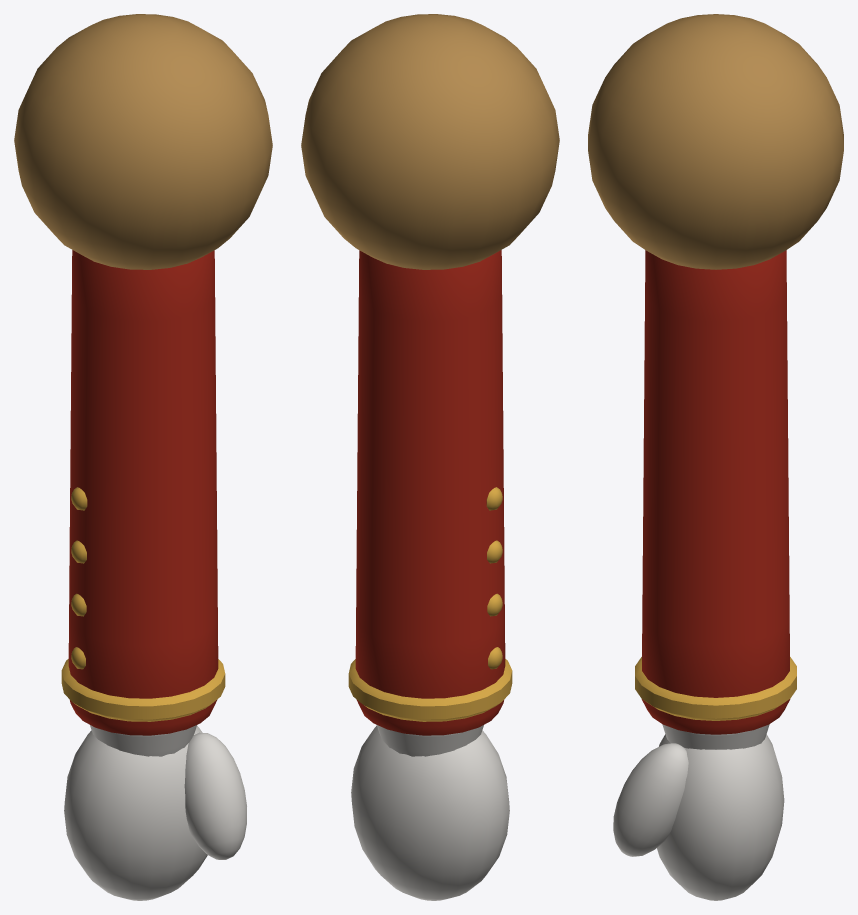
Rendered from Arm_Tin_L.fbx.
The picture shows the model from 3 angles, left to right: view 1: azimuth 30°, elevation 25°; view 2: azimuth 150°, elevation 25°; view 3: azimuth 270°, elevation 25°; orthographic projection.
Parts seen in each view (by area): view 1: Arm_Tin_L; view 2: Arm_Tin_L; view 3: Arm_Tin_L.
Part boxes in pixels (x1,y1,x2,y2): Arm_Tin_L: [14, 14, 272, 900]; Arm_Tin_L: [301, 14, 559, 900]; Arm_Tin_L: [588, 14, 843, 900].
Bounding box in the file's own units: 0.0651 × 0.2415 × 0.0644.
